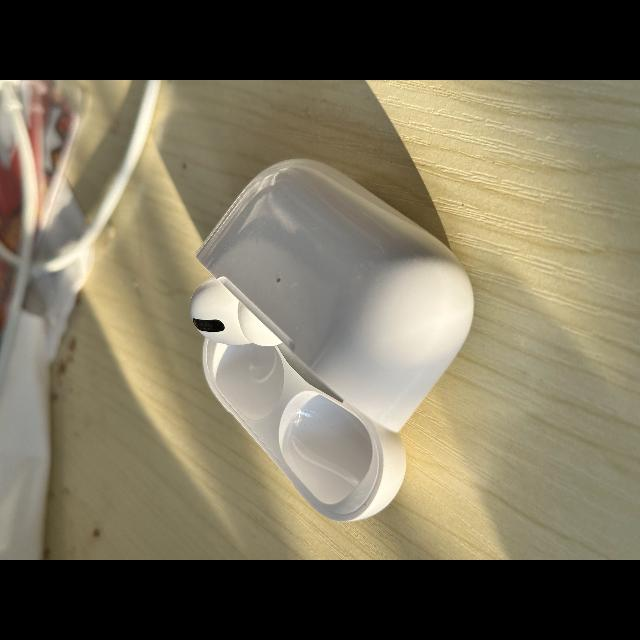AirPods Pro: (190, 158, 474, 522)
